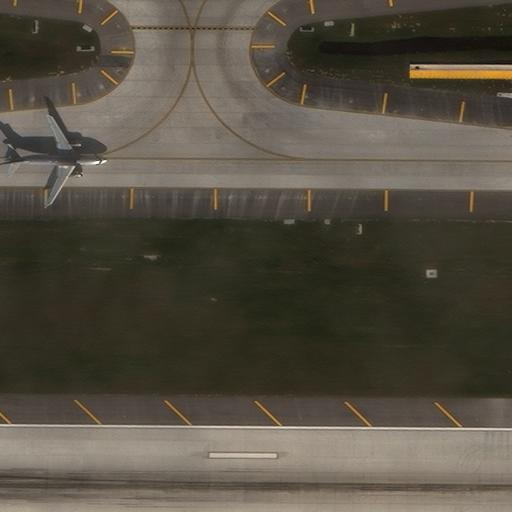Medium Civil Transport: (0, 116, 107, 208)
